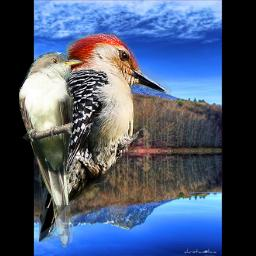Cuckoo: (19, 51, 83, 249)
Woodpecker: (39, 33, 173, 242)
